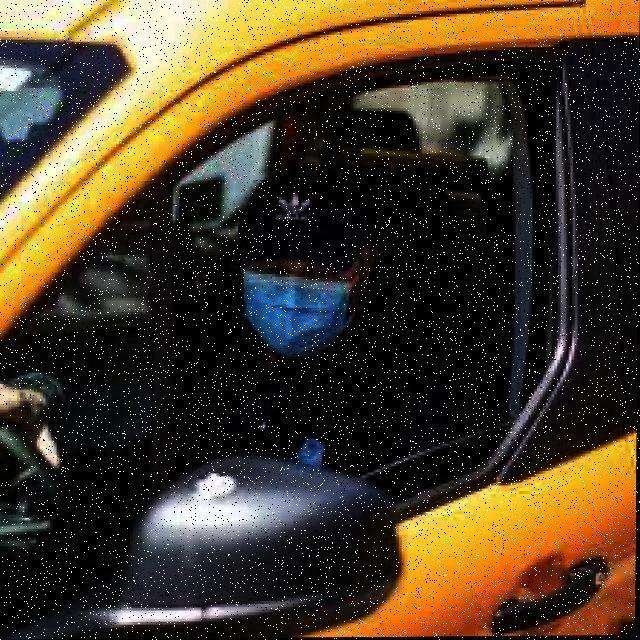seatbelt: (174, 305, 433, 478)
